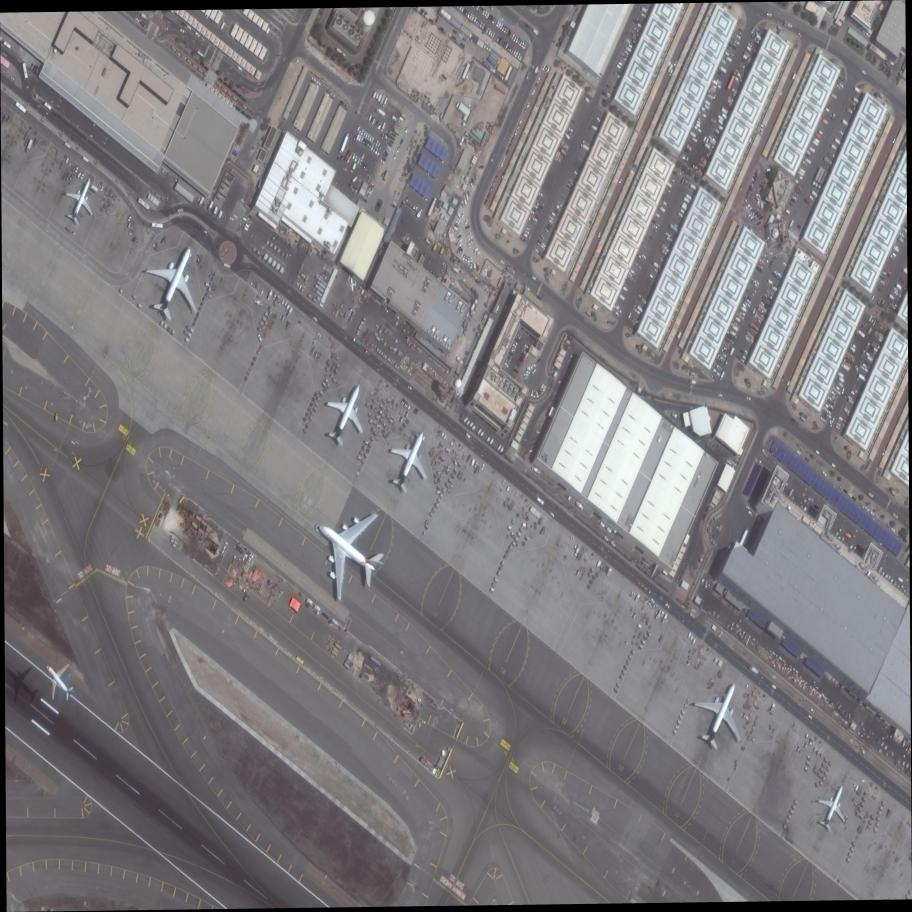large-vehicle: (810, 165, 824, 188), (338, 131, 351, 155), (816, 169, 829, 191), (814, 167, 827, 189), (725, 70, 738, 92), (426, 197, 438, 219), (136, 198, 152, 211), (14, 102, 28, 114), (748, 666, 760, 676), (375, 108, 387, 117), (579, 143, 591, 152), (823, 156, 833, 166), (535, 496, 545, 506), (574, 502, 585, 511), (350, 162, 358, 174), (22, 63, 28, 78), (692, 125, 702, 134), (840, 363, 851, 371), (761, 448, 769, 459), (652, 262, 661, 271), (867, 491, 876, 500), (661, 244, 670, 253), (44, 102, 53, 111), (810, 139, 820, 147), (718, 66, 728, 74), (857, 374, 867, 382), (254, 299, 264, 307), (355, 130, 362, 141), (382, 97, 389, 108), (808, 146, 817, 154), (853, 86, 862, 94), (841, 119, 850, 127), (3, 41, 12, 49), (151, 222, 163, 228), (582, 140, 591, 148), (783, 21, 793, 28), (719, 370, 725, 381), (267, 290, 273, 301), (866, 355, 874, 363), (140, 12, 148, 20), (731, 325, 739, 333), (636, 305, 644, 313), (618, 293, 626, 301), (707, 93, 715, 101), (745, 46, 753, 54), (599, 521, 607, 529), (372, 90, 379, 99), (798, 167, 807, 174), (791, 72, 798, 81), (836, 371, 845, 378), (852, 96, 861, 103), (532, 467, 541, 474), (488, 437, 495, 446), (377, 93, 383, 103), (287, 307, 293, 317), (668, 63, 674, 73), (849, 346, 857, 353), (739, 306, 747, 313), (729, 330, 737, 337), (837, 376, 845, 383), (821, 119, 829, 126), (830, 144, 838, 151), (683, 197, 691, 204), (685, 194, 693, 201), (659, 206, 667, 213), (720, 108, 728, 115), (704, 99, 712, 106), (711, 83, 719, 90), (711, 79, 719, 86), (770, 683, 778, 690), (685, 144, 693, 151), (603, 535, 610, 543), (729, 347, 735, 356), (494, 305, 500, 314), (220, 21, 226, 30), (381, 122, 386, 132), (391, 115, 398, 122), (197, 51, 204, 58), (351, 176, 358, 183), (813, 137, 820, 144), (892, 513, 899, 520), (846, 107, 853, 114), (811, 191, 818, 198), (681, 204, 688, 211), (564, 133, 571, 140), (532, 29, 539, 36), (717, 118, 724, 125), (717, 114, 724, 121), (721, 113, 728, 120), (700, 106, 707, 113), (716, 79, 723, 86), (463, 416, 470, 423), (610, 541, 617, 548), (606, 527, 613, 534), (814, 133, 822, 139), (804, 158, 812, 164), (797, 170, 805, 176), (830, 93, 838, 99), (677, 331, 683, 339), (689, 185, 697, 191), (717, 125, 725, 131), (691, 136, 699, 142), (725, 57, 733, 63), (452, 267, 460, 273), (236, 65, 243, 71), (817, 129, 824, 135), (734, 317, 741, 323), (815, 450, 822, 456), (829, 151, 836, 157), (835, 139, 842, 145), (622, 286, 629, 292), (678, 212, 685, 218), (555, 205, 562, 211), (556, 201, 563, 207), (591, 125, 598, 131), (690, 132, 697, 138), (701, 112, 708, 118), (704, 104, 711, 110), (736, 72, 743, 78), (680, 155, 687, 161), (663, 602, 670, 608), (689, 613, 696, 619), (452, 225, 459, 231), (375, 92, 380, 100), (534, 66, 539, 74), (401, 113, 407, 119), (531, 275, 537, 281), (662, 201, 668, 207), (533, 217, 539, 223), (734, 77, 740, 83), (471, 424, 477, 430), (457, 238, 463, 244), (797, 175, 804, 180), (503, 305, 508, 312), (614, 312, 621, 317), (161, 167, 166, 174), (669, 69, 674, 76), (625, 47, 632, 52), (497, 444, 502, 451), (477, 428, 482, 435), (463, 198, 468, 205), (667, 61, 671, 69), (689, 380, 697, 384), (760, 123, 766, 128), (809, 195, 814, 201), (830, 463, 836, 468), (711, 368, 717, 373), (655, 213, 661, 218), (596, 117, 601, 123), (469, 421, 474, 427), (466, 420, 471, 426), (357, 125, 361, 132), (466, 192, 469, 201), (399, 117, 404, 122), (637, 23, 642, 28), (618, 62, 623, 66), (628, 44, 633, 48), (780, 91, 783, 96)
plane: (289, 478, 408, 618), (126, 226, 225, 338), (675, 661, 766, 764), (374, 416, 450, 503), (311, 371, 384, 457), (27, 647, 90, 713), (53, 167, 107, 231), (808, 775, 859, 838), (348, 276, 358, 293)
small-vehicle: (717, 630, 725, 638), (872, 318, 878, 328), (311, 315, 319, 322), (519, 236, 527, 243), (503, 362, 510, 369), (215, 81, 222, 88), (793, 178, 800, 185), (751, 288, 758, 295), (850, 342, 857, 349), (821, 470, 828, 477), (641, 243, 648, 250), (709, 502, 716, 509), (480, 23, 486, 30), (548, 215, 555, 221), (516, 333, 523, 339), (194, 32, 201, 38), (140, 21, 147, 27), (504, 359, 511, 365), (754, 211, 761, 217), (838, 130, 845, 136), (764, 288, 771, 294), (838, 83, 845, 89), (862, 362, 868, 369), (847, 395, 854, 401), (833, 392, 839, 399), (831, 399, 837, 406), (898, 232, 905, 238), (864, 506, 870, 513), (257, 335, 263, 342), (747, 511, 754, 517), (487, 29, 492, 37), (861, 747, 866, 755), (673, 59, 678, 67), (568, 127, 574, 133), (510, 345, 516, 351), (454, 220, 460, 226), (455, 217, 461, 223), (540, 234, 546, 240), (525, 230, 531, 236), (534, 248, 540, 254), (540, 245, 546, 251), (380, 159, 386, 165), (235, 106, 241, 112), (429, 18, 435, 24), (237, 93, 243, 99), (232, 89, 238, 95), (181, 54, 187, 60), (175, 50, 181, 56), (745, 203, 751, 209), (805, 149, 811, 155), (740, 358, 746, 364), (745, 302, 751, 308), (861, 70, 867, 76), (743, 292, 749, 298), (759, 258, 765, 264), (761, 256, 767, 262), (773, 269, 779, 275), (777, 273, 783, 279), (782, 261, 788, 267), (525, 286, 531, 292), (838, 382, 844, 388), (831, 386, 837, 392), (893, 287, 899, 293), (876, 287, 882, 293), (890, 527, 896, 533), (869, 511, 875, 517), (851, 496, 857, 502), (859, 503, 865, 509), (847, 492, 853, 498), (745, 505, 751, 511), (392, 200, 398, 206), (666, 188, 672, 194), (665, 232, 671, 238), (642, 254, 648, 260), (625, 38, 631, 44), (568, 177, 574, 183), (796, 449, 802, 455), (749, 37, 755, 43), (757, 129, 763, 135), (407, 385, 413, 391), (536, 358, 542, 364), (637, 264, 643, 270), (526, 102, 531, 109), (536, 76, 541, 83), (546, 66, 551, 73), (480, 7, 485, 14), (484, 10, 489, 17), (482, 25, 487, 32), (485, 27, 490, 34), (469, 13, 474, 20), (495, 20, 500, 27), (515, 37, 520, 44), (522, 43, 527, 50), (505, 357, 512, 362), (539, 387, 544, 394), (536, 389, 541, 396), (538, 192, 545, 197), (508, 46, 513, 53), (374, 121, 379, 128), (514, 51, 519, 58), (516, 53, 521, 60), (127, 215, 132, 222), (80, 173, 85, 180), (751, 178, 756, 185), (754, 168, 759, 175), (739, 312, 746, 317), (757, 265, 764, 270), (855, 365, 860, 372), (868, 316, 873, 323), (892, 137, 897, 144), (828, 420, 833, 427), (618, 177, 623, 184), (481, 463, 486, 470), (717, 393, 724, 398), (498, 21, 502, 29), (75, 165, 79, 173), (516, 125, 521, 131), (523, 108, 528, 114), (531, 89, 536, 95), (524, 24, 530, 29), (510, 137, 515, 143), (469, 182, 474, 188), (454, 184, 460, 189), (489, 186, 494, 192), (475, 19, 480, 25), (491, 32, 496, 38), (461, 7, 466, 13), (505, 28, 510, 34), (511, 33, 516, 39), (518, 40, 523, 46), (541, 384, 547, 389), (549, 512, 555, 517), (540, 386, 545, 392), (512, 343, 518, 348), (514, 338, 520, 343), (515, 335, 521, 340), (548, 219, 554, 224), (544, 227, 549, 233), (459, 248, 464, 254), (460, 251, 465, 257), (457, 234, 463, 239), (499, 260, 505, 265), (535, 214, 541, 219), (530, 211, 536, 216), (526, 227, 532, 232), (372, 147, 377, 153), (376, 150, 381, 156), (386, 146, 392, 151), (330, 93, 336, 98), (393, 154, 398, 160), (229, 217, 235, 222), (242, 104, 248, 109), (232, 95, 237, 101), (462, 37, 468, 42), (457, 33, 463, 38), (451, 36, 457, 41), (439, 27, 445, 32), (186, 25, 192, 30), (179, 28, 185, 33), (199, 36, 205, 41), (183, 40, 189, 45), (199, 62, 205, 67), (197, 68, 203, 73), (192, 64, 198, 69), (171, 46, 177, 51), (756, 214, 762, 219), (752, 209, 757, 215), (747, 206, 753, 211), (743, 194, 748, 200), (748, 185, 753, 191), (752, 176, 757, 182), (762, 177, 768, 182), (743, 349, 748, 355), (741, 355, 747, 360), (761, 253, 767, 258), (763, 292, 768, 298), (836, 390, 842, 395), (829, 390, 835, 395), (827, 396, 833, 401), (829, 404, 834, 410), (827, 414, 833, 419), (893, 290, 898, 296), (880, 280, 886, 285), (893, 244, 899, 249), (835, 425, 841, 430), (822, 418, 828, 423), (786, 381, 791, 387), (316, 81, 322, 86), (311, 77, 317, 82), (606, 92, 612, 97), (670, 178, 676, 183), (615, 304, 621, 309), (631, 25, 637, 30), (573, 170, 579, 175), (804, 457, 810, 462), (746, 396, 752, 401), (736, 34, 742, 39), (729, 52, 735, 57), (519, 117, 523, 124), (544, 64, 548, 71), (542, 64, 546, 71), (502, 156, 506, 163), (486, 12, 490, 19), (490, 14, 494, 21), (467, 12, 471, 19), (471, 15, 475, 22), (473, 17, 477, 24), (477, 20, 481, 27), (479, 22, 483, 29), (490, 31, 494, 38), (494, 34, 498, 41), (505, 43, 509, 50), (465, 10, 469, 17), (500, 23, 504, 30), (507, 29, 511, 36), (517, 38, 521, 45), (535, 391, 539, 398), (464, 219, 468, 226), (462, 254, 466, 261), (507, 45, 511, 52), (375, 148, 379, 155), (354, 156, 358, 163), (357, 158, 361, 165), (372, 118, 376, 125), (513, 49, 517, 56), (400, 139, 404, 146), (378, 123, 382, 130), (35, 67, 39, 74), (519, 55, 523, 62), (747, 187, 751, 194), (841, 387, 845, 394), (460, 203, 465, 208), (532, 369, 537, 374), (554, 209, 559, 214), (524, 344, 529, 349), (522, 350, 527, 355), (517, 360, 522, 365), (510, 348, 515, 353), (518, 358, 523, 363), (456, 232, 461, 237), (469, 239, 474, 244), (466, 234, 471, 239), (536, 242, 541, 247), (541, 242, 546, 247), (532, 208, 537, 213), (538, 205, 543, 210), (540, 202, 545, 207), (383, 153, 388, 158), (385, 149, 390, 154), (387, 142, 392, 147), (389, 140, 394, 145), (367, 190, 372, 195), (369, 188, 374, 193), (240, 198, 245, 203), (233, 214, 238, 219), (241, 111, 246, 116), (227, 91, 232, 96), (453, 29, 458, 34), (460, 43, 465, 48), (447, 32, 452, 37), (181, 21, 186, 26), (222, 87, 227, 92), (242, 98, 247, 103), (204, 72, 209, 77), (228, 85, 233, 90), (218, 78, 223, 83), (204, 66, 209, 71), (187, 59, 192, 64), (135, 17, 140, 22), (750, 209, 755, 214), (758, 216, 763, 221), (792, 196, 797, 201), (754, 219, 759, 224), (751, 217, 756, 222), (749, 215, 754, 220), (722, 353, 727, 358), (755, 280, 760, 285), (750, 292, 755, 297), (746, 299, 751, 304), (770, 292, 775, 297), (823, 406, 828, 411), (823, 411, 828, 416), (822, 414, 827, 419), (836, 422, 841, 427), (882, 271, 887, 276), (818, 416, 823, 421), (885, 524, 890, 529), (843, 489, 848, 494), (624, 50, 629, 55), (655, 223, 660, 228), (653, 225, 658, 230), (654, 268, 659, 273), (422, 720, 427, 725), (797, 32, 802, 37), (721, 59, 726, 64), (737, 30, 742, 35), (731, 37, 736, 42), (633, 261, 638, 266), (534, 83, 538, 89), (478, 6, 482, 12), (482, 9, 486, 15), (514, 131, 518, 137), (570, 119, 576, 123), (488, 14, 492, 20), (484, 199, 488, 205), (492, 180, 496, 186), (500, 162, 504, 168), (505, 149, 509, 155), (508, 143, 512, 149), (503, 42, 507, 48), (492, 17, 496, 23), (503, 27, 507, 33), (513, 35, 517, 41), (521, 42, 525, 48), (527, 449, 533, 453), (547, 223, 553, 227), (507, 354, 513, 358), (508, 351, 514, 355), (520, 353, 526, 357), (468, 236, 474, 240), (534, 202, 540, 206), (510, 48, 514, 54), (352, 154, 356, 160), (370, 145, 374, 151), (349, 152, 353, 158), (370, 117, 374, 123), (415, 205, 419, 211), (413, 204, 417, 210), (347, 157, 351, 163), (365, 165, 369, 171), (363, 164, 367, 170), (361, 154, 365, 160), (381, 133, 385, 139), (405, 127, 409, 133), (396, 147, 400, 153), (375, 141, 379, 147), (369, 136, 373, 142), (367, 134, 371, 140), (363, 130, 367, 136), (273, 294, 277, 300), (225, 97, 231, 101), (10, 77, 16, 81), (750, 182, 754, 188), (754, 172, 758, 178), (752, 308, 756, 314), (766, 257, 770, 263), (879, 276, 885, 280), (613, 306, 619, 310), (767, 12, 773, 16), (474, 173, 477, 180), (598, 231, 601, 238), (629, 312, 632, 319), (418, 722, 421, 729), (487, 193, 491, 198), (494, 175, 498, 180), (501, 173, 505, 178), (510, 32, 514, 37), (467, 191, 471, 196), (524, 373, 529, 377), (525, 370, 530, 374), (515, 363, 520, 367), (513, 341, 518, 345), (519, 356, 524, 360), (465, 256, 469, 261), (537, 240, 542, 244), (537, 208, 542, 212), (533, 205, 538, 209), (382, 157, 387, 161), (384, 151, 389, 155), (390, 137, 395, 141), (391, 133, 396, 137), (339, 101, 344, 105), (381, 174, 385, 179), (359, 161, 363, 166), (368, 143, 372, 148), (367, 142, 371, 147), (362, 139, 366, 144), (284, 301, 288, 306), (281, 300, 285, 305), (246, 115, 251, 119), (232, 101, 237, 105), (221, 92, 225, 97), (30, 64, 34, 69), (455, 40, 460, 44), (163, 27, 168, 31), (223, 82, 228, 86), (742, 203, 747, 207), (759, 184, 764, 188), (755, 193, 760, 197), (827, 410, 832, 414), (871, 295, 875, 300), (841, 423, 846, 427), (838, 486, 843, 490), (617, 309, 622, 313), (634, 32, 639, 36), (759, 127, 764, 131), (735, 41, 740, 45), (502, 26, 505, 32), (533, 391, 536, 397), (470, 263, 473, 269), (470, 256, 473, 262), (424, 12, 427, 18), (422, 10, 425, 16), (373, 139, 376, 145), (365, 133, 368, 139), (361, 129, 364, 135), (33, 66, 36, 72), (757, 199, 760, 205), (832, 417, 835, 423), (100, 186, 103, 192), (751, 28, 754, 34), (458, 247, 462, 251), (458, 243, 462, 247), (377, 143, 381, 147), (748, 213, 752, 217), (789, 202, 793, 206), (315, 84, 319, 88), (471, 179, 474, 184), (497, 37, 500, 42), (461, 213, 464, 218), (523, 377, 528, 380), (529, 366, 534, 369), (532, 364, 537, 367), (468, 243, 471, 248), (361, 162, 364, 167), (365, 140, 368, 145), (361, 137, 364, 142), (359, 136, 362, 141), (371, 138, 374, 143), (761, 182, 766, 185), (861, 780, 866, 783), (531, 390, 533, 396), (479, 166, 484, 168), (468, 257, 470, 262), (755, 197, 757, 202), (757, 191, 761, 193), (758, 188, 761, 190)
